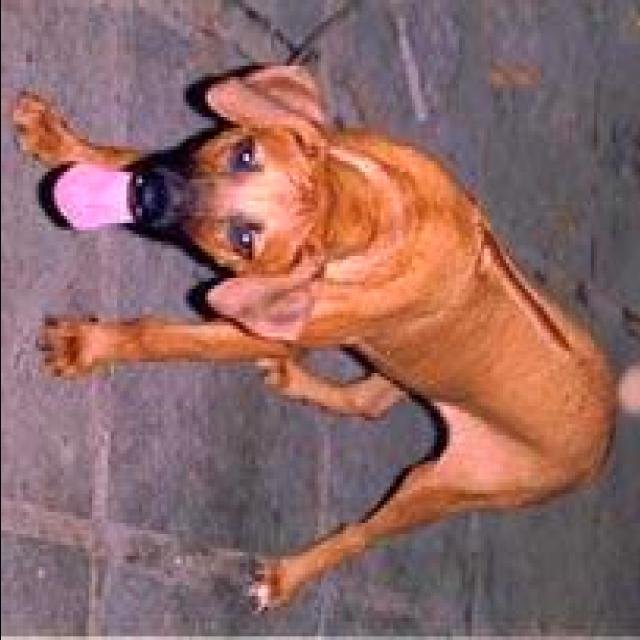rhodesian_ridgeback: (3, 26, 637, 618)
